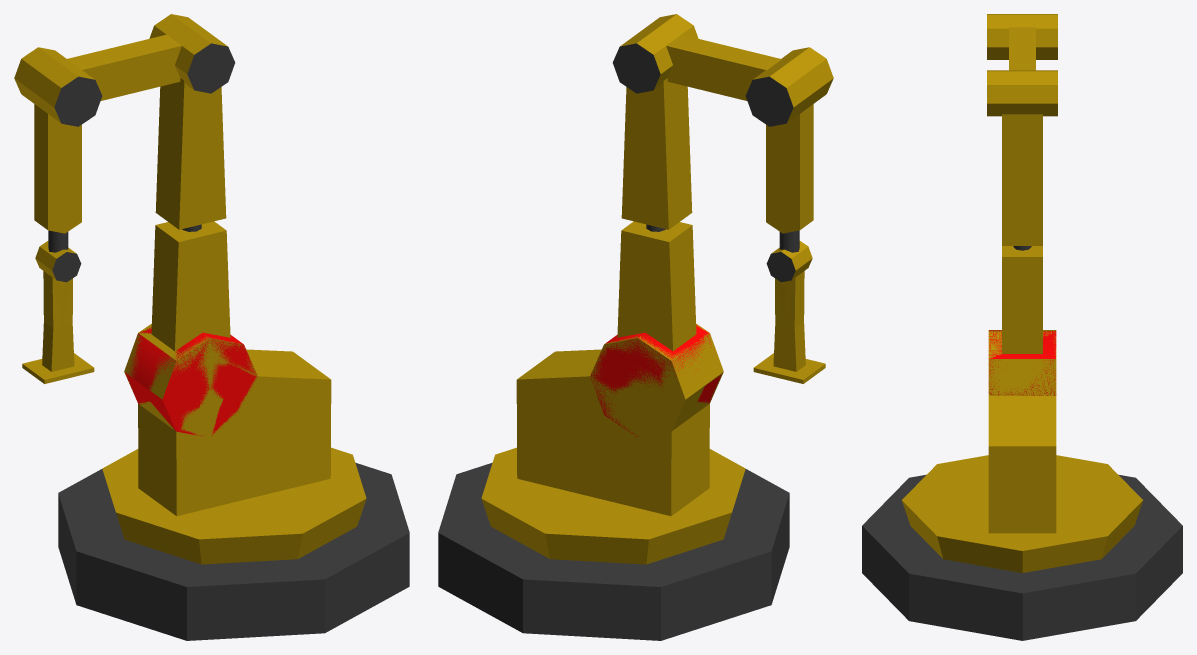
The model's file is Robot_3ds Max.FBX.
3 views of the same model, side by side, from view 1: azimuth 30°, elevation 25°; view 2: azimuth 150°, elevation 25°; view 3: azimuth 270°, elevation 25° (orthographic). The views are drawn at different scales.
Visible parts, largest first — view 1: Base, Mount, Fivth, Second, First, Third, Anchor, Seventh; view 2: Base, Mount, Fivth, Second, First, Third, Seventh, Anchor; view 3: Base, Mount, Second, Third, First, Fivth, Anchor.
Boxes of the visible parts, left/top/right/bottom form: Base: left=102, top=323, right=366, bottom=564; Mount: left=58, top=462, right=409, bottom=640; Fivth: left=14, top=47, right=102, bottom=233; Second: left=155, top=78, right=226, bottom=231; First: left=151, top=221, right=230, bottom=350; Third: left=66, top=14, right=235, bottom=100; Anchor: left=125, top=327, right=257, bottom=436; Seventh: left=22, top=241, right=94, bottom=383; Base: left=481, top=324, right=745, bottom=564; Mount: left=438, top=462, right=789, bottom=640; Fivth: left=745, top=47, right=833, bottom=233; Second: left=621, top=78, right=692, bottom=231; First: left=617, top=221, right=696, bottom=350; Third: left=612, top=14, right=781, bottom=100; Seventh: left=753, top=241, right=825, bottom=383; Anchor: left=590, top=325, right=721, bottom=437; Base: left=902, top=330, right=1142, bottom=572; Mount: left=862, top=474, right=1182, bottom=640; Second: left=1002, top=114, right=1042, bottom=250; Third: left=987, top=27, right=1057, bottom=116; First: left=1002, top=246, right=1042, bottom=353; Fivth: left=987, top=14, right=1057, bottom=59; Anchor: left=988, top=330, right=1056, bottom=395.
Bounding box in the file's own units: 225 × 329 × 198.
